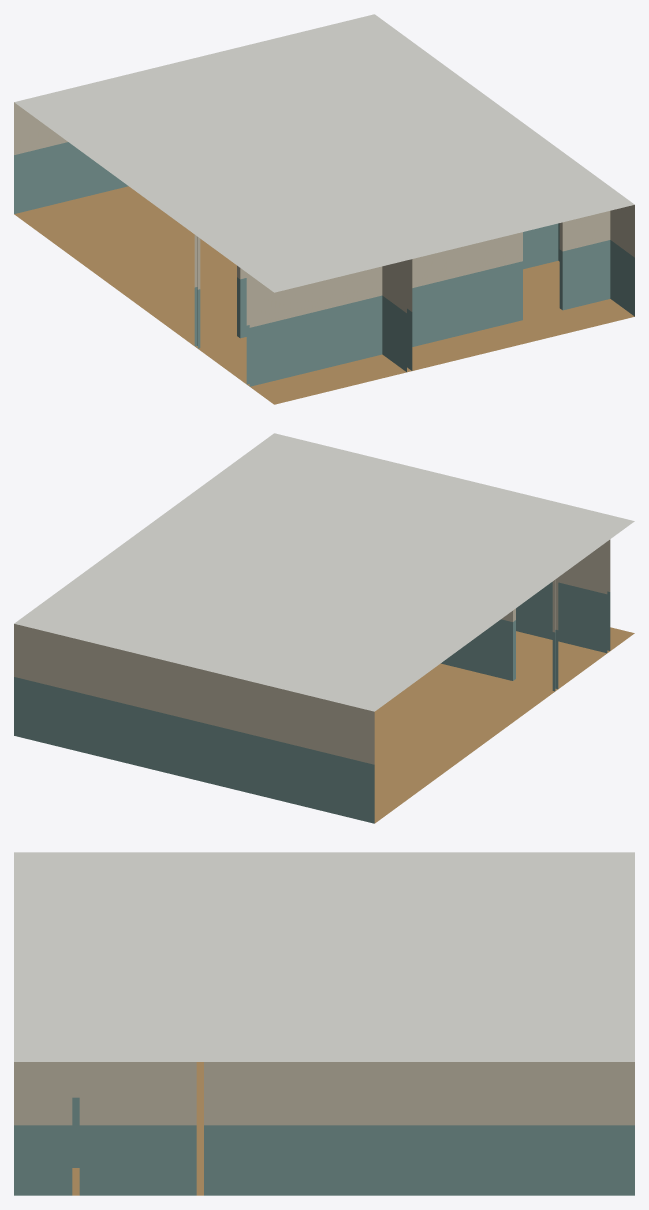
File: chunk_4_0.glb
The picture shows the model from 3 angles, top to bottom: view 1: azimuth 30°, elevation 25°; view 2: azimuth 150°, elevation 25°; view 3: azimuth 270°, elevation 25°; orthographic projection. The views are drawn at different scales.
Visible parts, largest first — view 1: chunk_4_0; view 2: chunk_4_0; view 3: chunk_4_0.
Boxes of the visible parts, x1,y1,x2,y2 form: chunk_4_0: [14, 14, 634, 404]; chunk_4_0: [14, 433, 634, 823]; chunk_4_0: [14, 852, 634, 1195].
Size of the model in its own units: 9.6 by 2.85 by 12.
